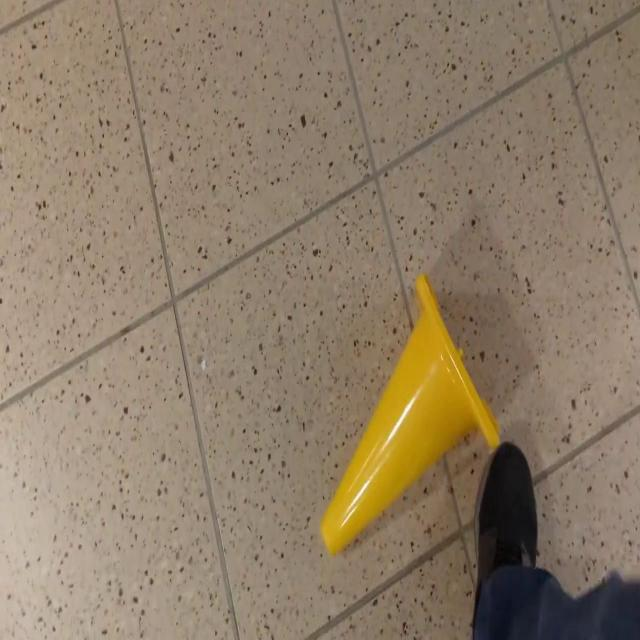frc_cone: (318, 270, 501, 558)
